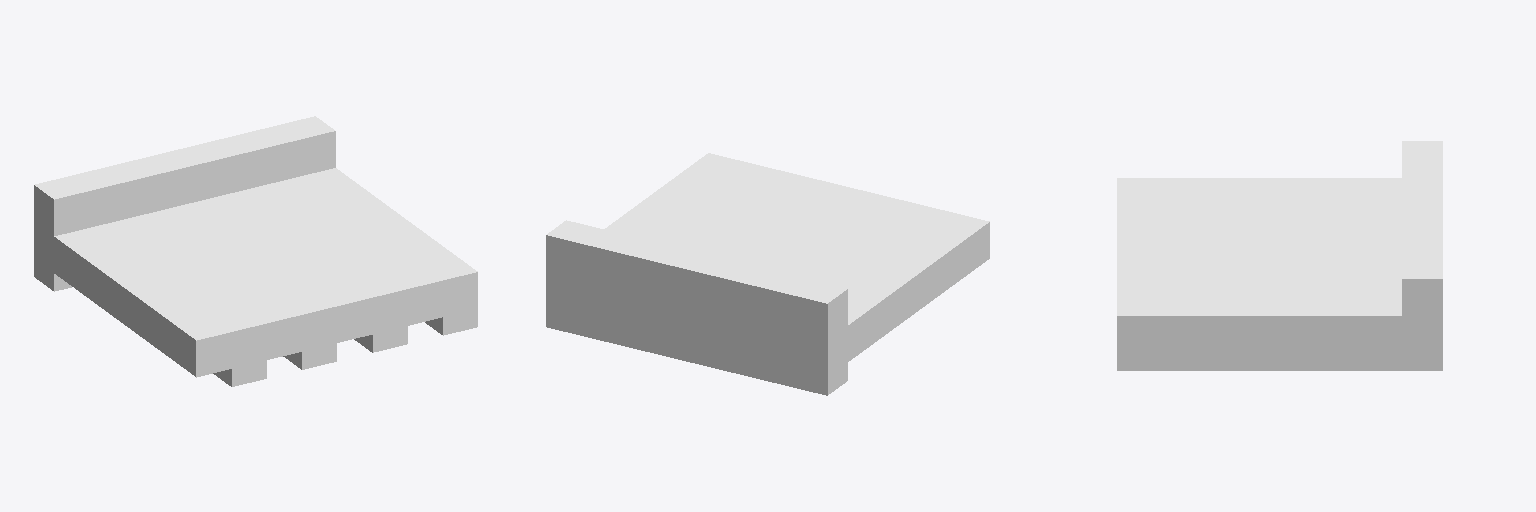
The model's file is CeilingBitsEdge1.obj.
The picture shows the model from 3 angles: view 1: azimuth 30°, elevation 25°; view 2: azimuth 150°, elevation 25°; view 3: azimuth 270°, elevation 25°; orthographic projection.
Parts seen in each view (by area): view 1: object 1; view 2: object 1; view 3: object 1.
Boxes of the visible parts, box(x1,y1,x2,y2) form: object 1: box(34, 116, 477, 386); object 1: box(546, 153, 989, 395); object 1: box(1117, 141, 1442, 370).
Bounding box in the file's own units: 1.6 × 0.5 × 1.6.